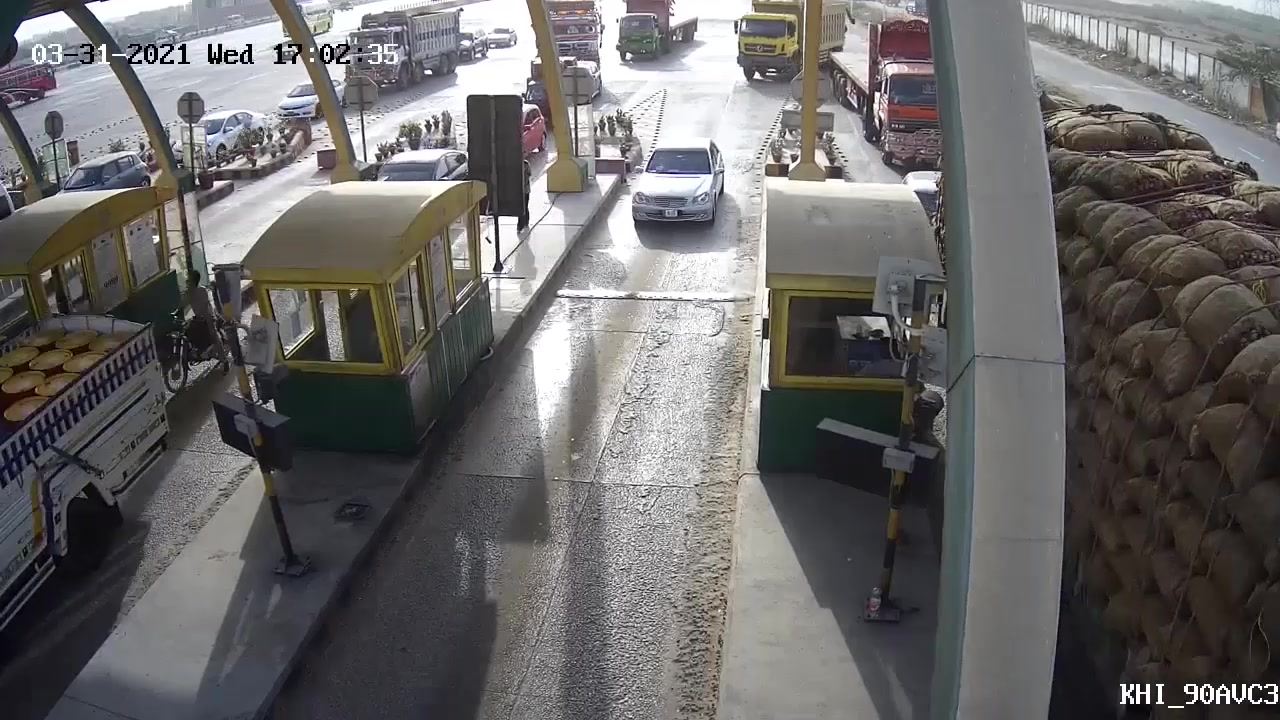F1: (621, 134, 731, 227)
